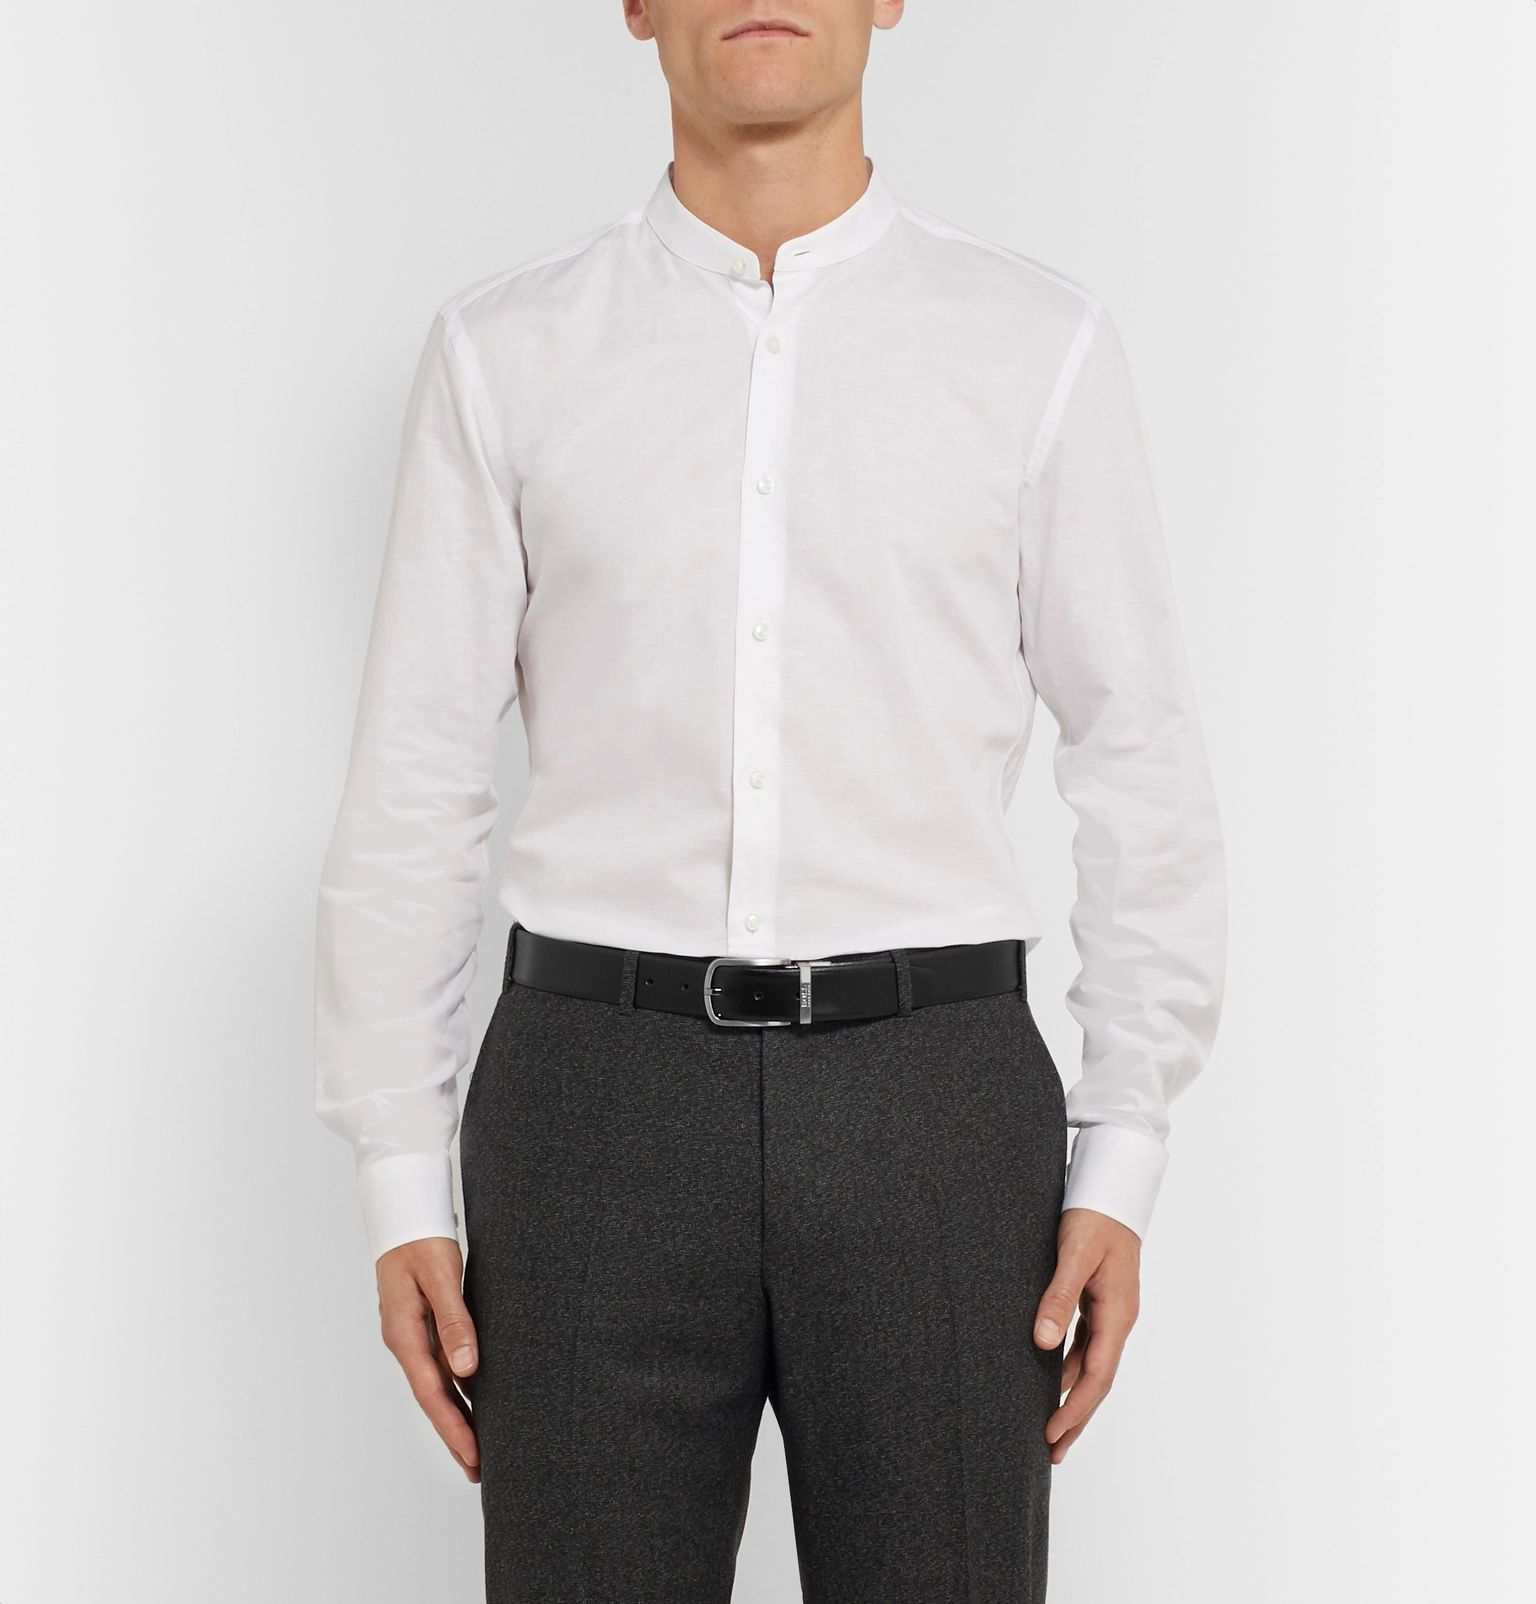F_belt: (482, 899, 1052, 1020)
F_dress pants: (454, 1035, 1076, 1577)
F_shirt: (286, 203, 1240, 1267)
